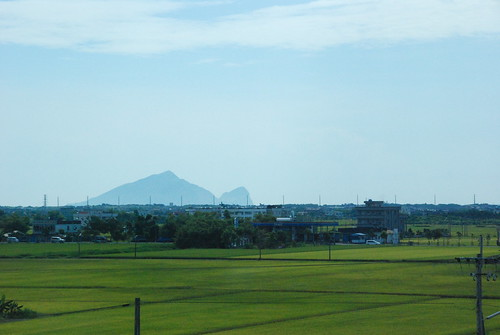turtleIsland: (62, 171, 254, 207)
